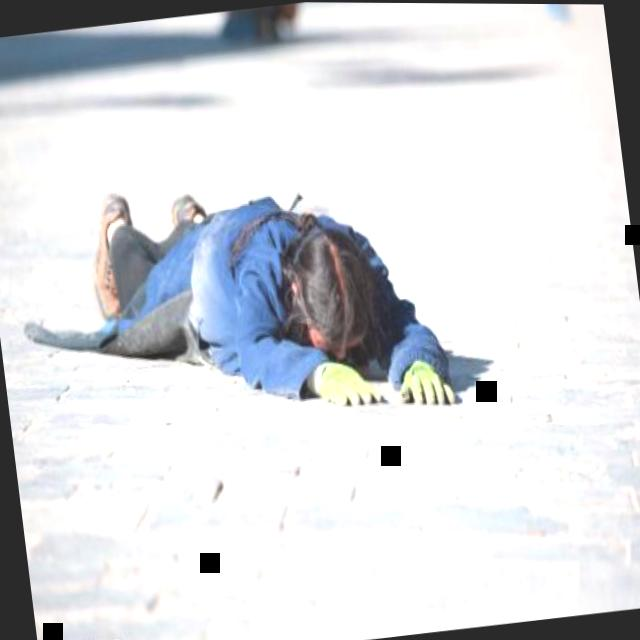Fall-Detected: (5, 136, 475, 458)
